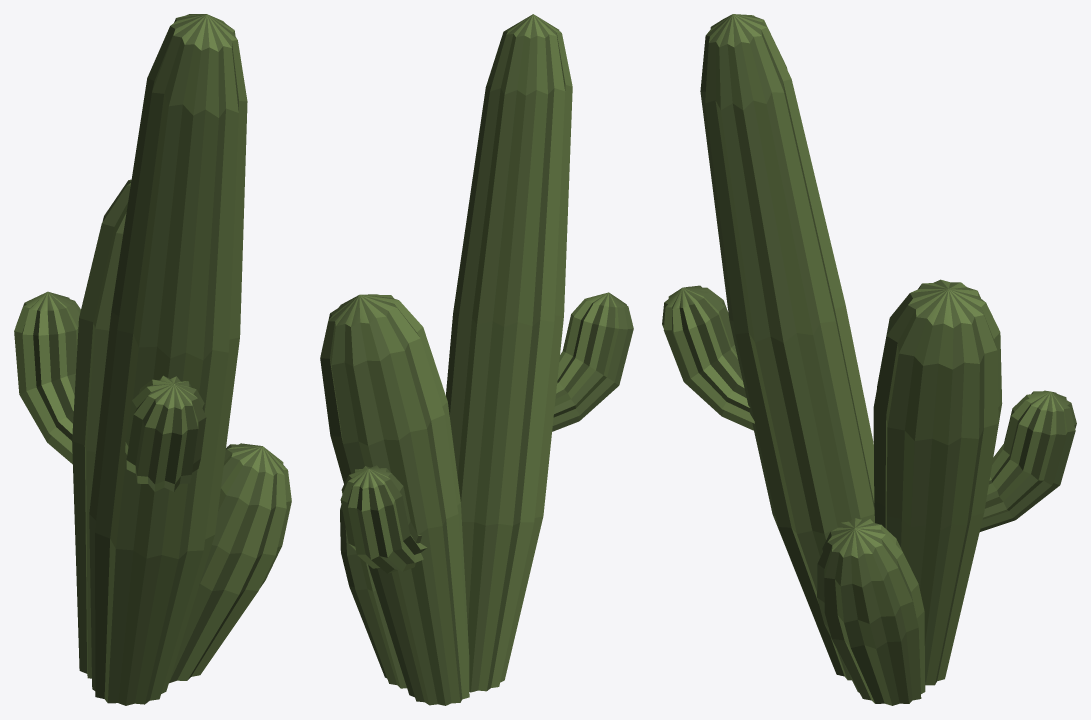
The model's file is Cactus-3.fbx.
3 views of the same model, side by side, from view 1: azimuth 30°, elevation 25°; view 2: azimuth 150°, elevation 25°; view 3: azimuth 270°, elevation 25° (orthographic). The views are drawn at different scales.
Parts seen in each view (by area): view 1: SM_Env_Cactus_03; view 2: SM_Env_Cactus_03; view 3: SM_Env_Cactus_03.
Part boxes in pixels (x1,y1,x2,y2): SM_Env_Cactus_03: [14, 14, 291, 705]; SM_Env_Cactus_03: [320, 14, 633, 705]; SM_Env_Cactus_03: [662, 14, 1076, 705].
Size of the model in its own units: 70.65 by 203 by 117.
